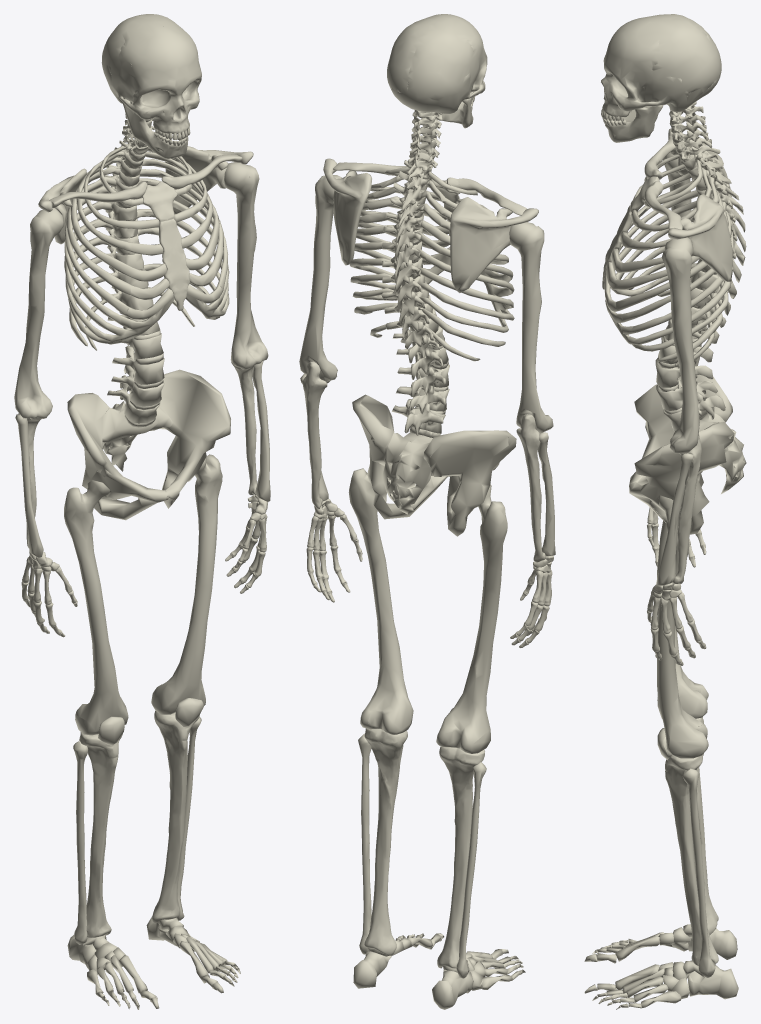
File: skeleton.glb
The picture shows the model from 3 angles, left to right: view 1: azimuth 30°, elevation 25°; view 2: azimuth 150°, elevation 25°; view 3: azimuth 270°, elevation 25°; orthographic projection.
Parts seen in each view (by area): view 1: Mesh_1, Mesh_9, Mesh_10, Mesh_8, Mesh_6, Mesh_4, Mesh_2, Mesh_5, Mesh_14, Mesh_18, Mesh_15, Mesh_13 (+4 smaller); view 2: Mesh_10, Mesh_9, Mesh_2, Mesh_1, Mesh_4, Mesh_8, Mesh_6, Mesh_3, Mesh_14, Mesh_5, Mesh_7, Mesh_18 (+2 smaller); view 3: Mesh_8, Mesh_1, Mesh_9, Mesh_2, Mesh_5, Mesh_10, Mesh_6, Mesh_4, Mesh_3, Mesh_14, Mesh_18, Mesh_7 (+3 smaller).
Boxes of the visible parts, bbox=[...] form: Mesh_1: bbox=[64, 146, 229, 350]; Mesh_9: bbox=[67, 369, 230, 520]; Mesh_10: bbox=[64, 454, 222, 735]; Mesh_8: bbox=[101, 14, 201, 158]; Mesh_6: bbox=[14, 162, 268, 419]; Mesh_4: bbox=[79, 711, 199, 937]; Mesh_2: bbox=[97, 114, 164, 427]; Mesh_5: bbox=[67, 916, 240, 1009]; Mesh_14: bbox=[21, 495, 267, 637]; Mesh_18: bbox=[73, 717, 201, 944]; Mesh_15: bbox=[15, 361, 270, 557]; Mesh_13: bbox=[141, 181, 189, 310]; Mesh_10: bbox=[348, 468, 507, 753]; Mesh_9: bbox=[352, 394, 516, 536]; Mesh_2: bbox=[381, 117, 449, 437]; Mesh_1: bbox=[349, 166, 514, 361]; Mesh_4: bbox=[364, 728, 484, 968]; Mesh_8: bbox=[387, 14, 487, 128]; Mesh_6: bbox=[299, 175, 553, 433]; Mesh_3: bbox=[323, 158, 538, 292]; Mesh_14: bbox=[306, 498, 553, 648]; Mesh_5: bbox=[353, 933, 525, 1009]; Mesh_7: bbox=[302, 361, 545, 562]; Mesh_18: bbox=[358, 733, 486, 978]; Mesh_8: bbox=[601, 14, 721, 142]; Mesh_1: bbox=[604, 150, 733, 367]; Mesh_9: bbox=[629, 374, 746, 534]; Mesh_2: bbox=[655, 111, 746, 431]; Mesh_5: bbox=[584, 924, 738, 1009]; Mesh_10: bbox=[657, 495, 708, 758]; Mesh_6: bbox=[661, 152, 699, 453]; Mesh_4: bbox=[665, 717, 718, 965]; Mesh_3: bbox=[668, 128, 732, 281]; Mesh_14: bbox=[647, 507, 706, 665]; Mesh_18: bbox=[682, 767, 715, 977]; Mesh_7: bbox=[673, 344, 701, 583].
Bounding box in the file's own units: 0.4697 × 1.73 × 0.2648.
